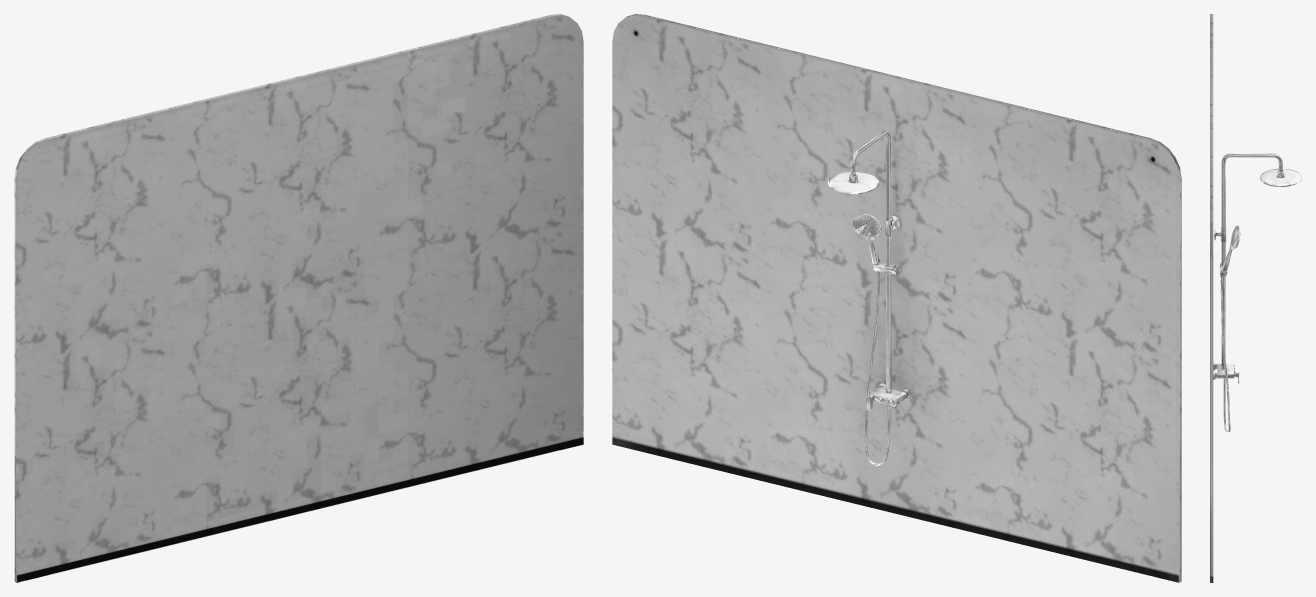
The model's file is Rain_Forest_F160075_1.glb.
3 renders of one model, left to right at view 1: azimuth 30°, elevation 25°; view 2: azimuth 150°, elevation 25°; view 3: azimuth 270°, elevation 25°, orthographic. The views are drawn at different scales.
Visible parts, largest first — view 1: Rain_Forest_F160075_1; view 2: Rain_Forest_F160075_1; view 3: Rain_Forest_F160075_1.
Part boxes in pixels (bbox=[...]): Rain_Forest_F160075_1: bbox=[14, 14, 583, 582]; Rain_Forest_F160075_1: bbox=[612, 14, 1181, 582]; Rain_Forest_F160075_1: bbox=[1210, 14, 1301, 582].
Bounding box in the file's own units: 2.77 × 2.03 × 0.4781.
Materials: 1 (1 with a texture image).
